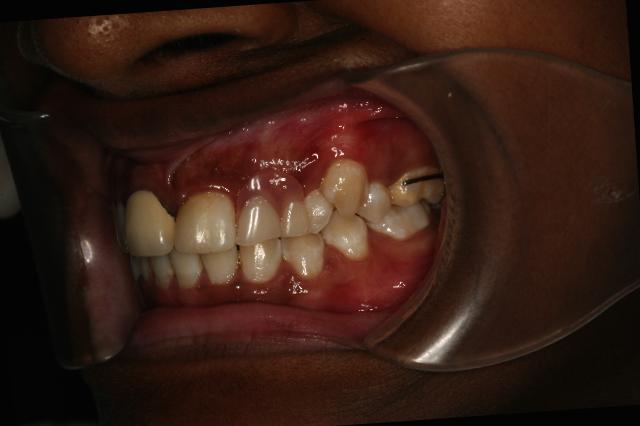molar class III 1/4: (361, 161, 448, 245)
